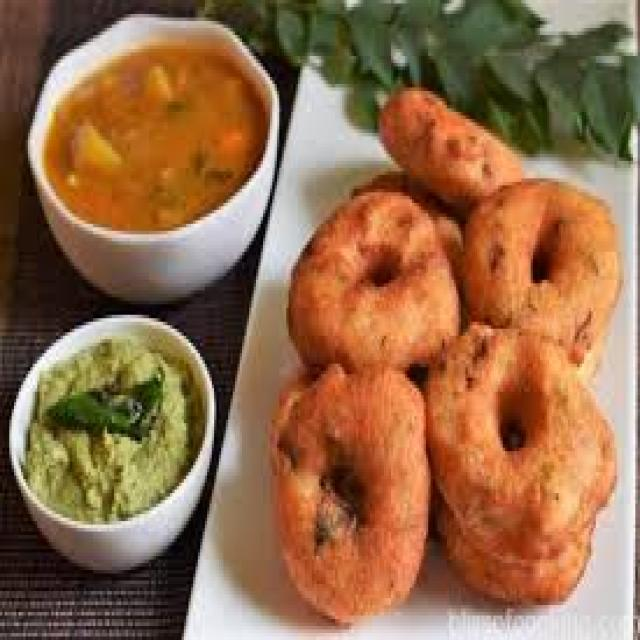MEDU VADA: (426, 322, 616, 563), (270, 358, 429, 615), (286, 195, 463, 379), (465, 184, 624, 364), (379, 89, 529, 207), (441, 497, 598, 598)
